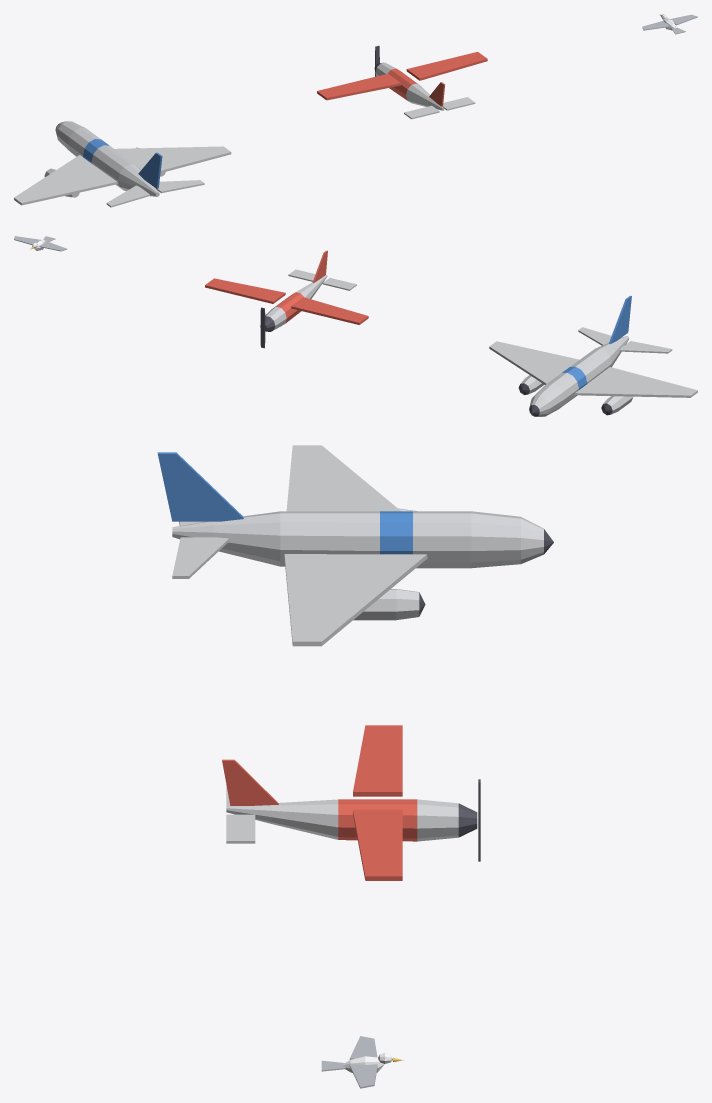
The model's file is AirTraffic.fbx.
3 views of the same model, one above another, from view 1: azimuth 30°, elevation 25°; view 2: azimuth 150°, elevation 25°; view 3: azimuth 270°, elevation 25° (orthographic). The views are drawn at different scales.
Visible parts, largest first — view 1: Plane_Jet_Body, Plane_Prop_Body; view 2: Plane_Jet_Body, Plane_Prop_Body; view 3: Plane_Jet_Body, Plane_Prop_Body.
Part boxes in pixels (x1,y1,x2,y2): Plane_Jet_Body: (14, 121, 231, 207); Plane_Prop_Body: (317, 52, 487, 119); Plane_Jet_Body: (489, 295, 697, 416); Plane_Prop_Body: (205, 250, 368, 331); Plane_Jet_Body: (157, 445, 553, 646); Plane_Prop_Body: (222, 725, 477, 880).
Size of the model in its own units: 3706 by 335 by 955.
